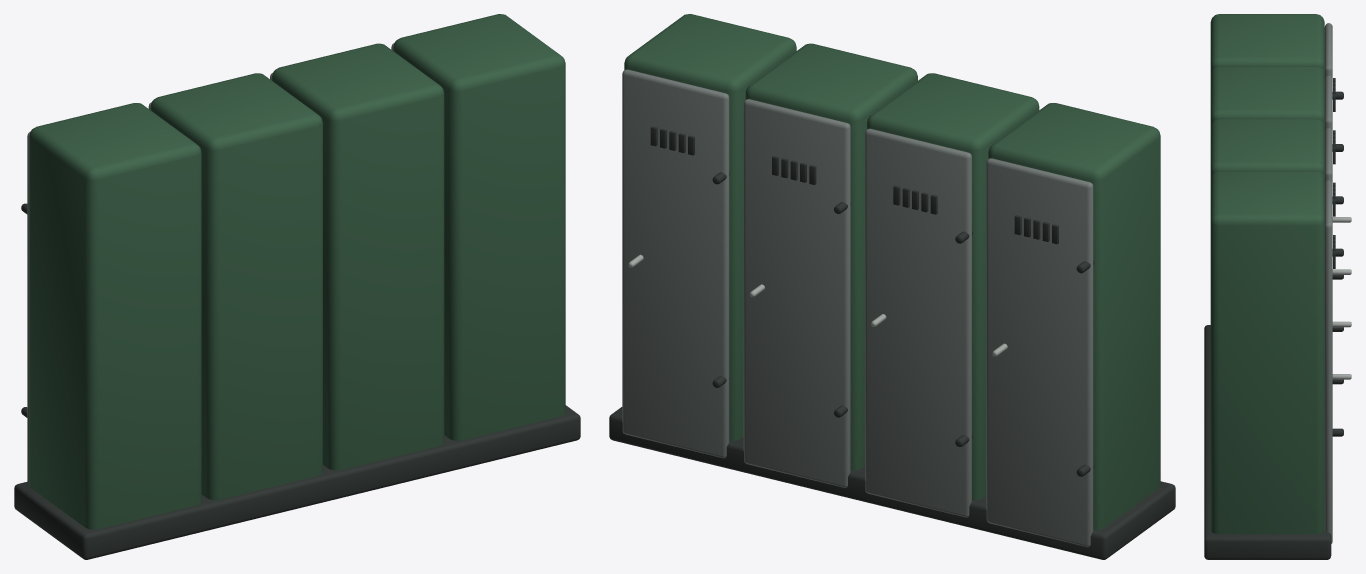
The model's file is locker_bank_v3.glb.
3 renders of one model, left to right at view 1: azimuth 30°, elevation 25°; view 2: azimuth 150°, elevation 25°; view 3: azimuth 270°, elevation 25°, orthographic. The views are drawn at different scales.
Visible parts, largest first — view 1: LockerBody_0, LockerBody_2, LockerBody_3, LockerBody_1, LockerPlinth, LockerDoor_0; view 2: LockerDoor_3, LockerDoor_0, LockerDoor_2, LockerDoor_1, LockerBody_0, LockerBody_2, LockerBody_3, LockerBody_1, LockerPlinth; view 3: LockerBody_3, LockerBody_2, LockerBody_0, LockerBody_1, LockerPlinth, LockerDoor_3, LockerDoor_1, LockerDoor_2, LockerDoor_0.
Part boxes in pixels (x1,y1,x2,y2): LockerBody_0: [29, 103, 201, 529]; LockerBody_2: [272, 43, 444, 470]; LockerBody_3: [393, 14, 565, 440]; LockerBody_1: [150, 73, 322, 500]; LockerPlinth: [14, 405, 580, 559]; LockerDoor_0: [27, 132, 30, 481]; LockerDoor_3: [622, 69, 729, 458]; LockerDoor_0: [986, 158, 1093, 547]; LockerDoor_2: [743, 99, 850, 487]; LockerDoor_1: [865, 128, 971, 517]; LockerBody_0: [988, 103, 1160, 529]; LockerBody_2: [745, 43, 917, 470]; LockerBody_3: [624, 14, 796, 440]; LockerBody_1: [867, 73, 1039, 500]; LockerPlinth: [609, 407, 1175, 559]; LockerBody_3: [1210, 171, 1324, 534]; LockerBody_2: [1210, 118, 1324, 178]; LockerBody_0: [1210, 14, 1324, 73]; LockerBody_1: [1210, 66, 1324, 125]; LockerPlinth: [1204, 325, 1331, 559]; LockerDoor_3: [1324, 180, 1332, 543]; LockerDoor_1: [1324, 75, 1332, 131]; LockerDoor_2: [1324, 127, 1332, 183]; LockerDoor_0: [1324, 23, 1332, 78].
Bounding box in the file's own units: 3.2 × 2.36 × 0.93.
